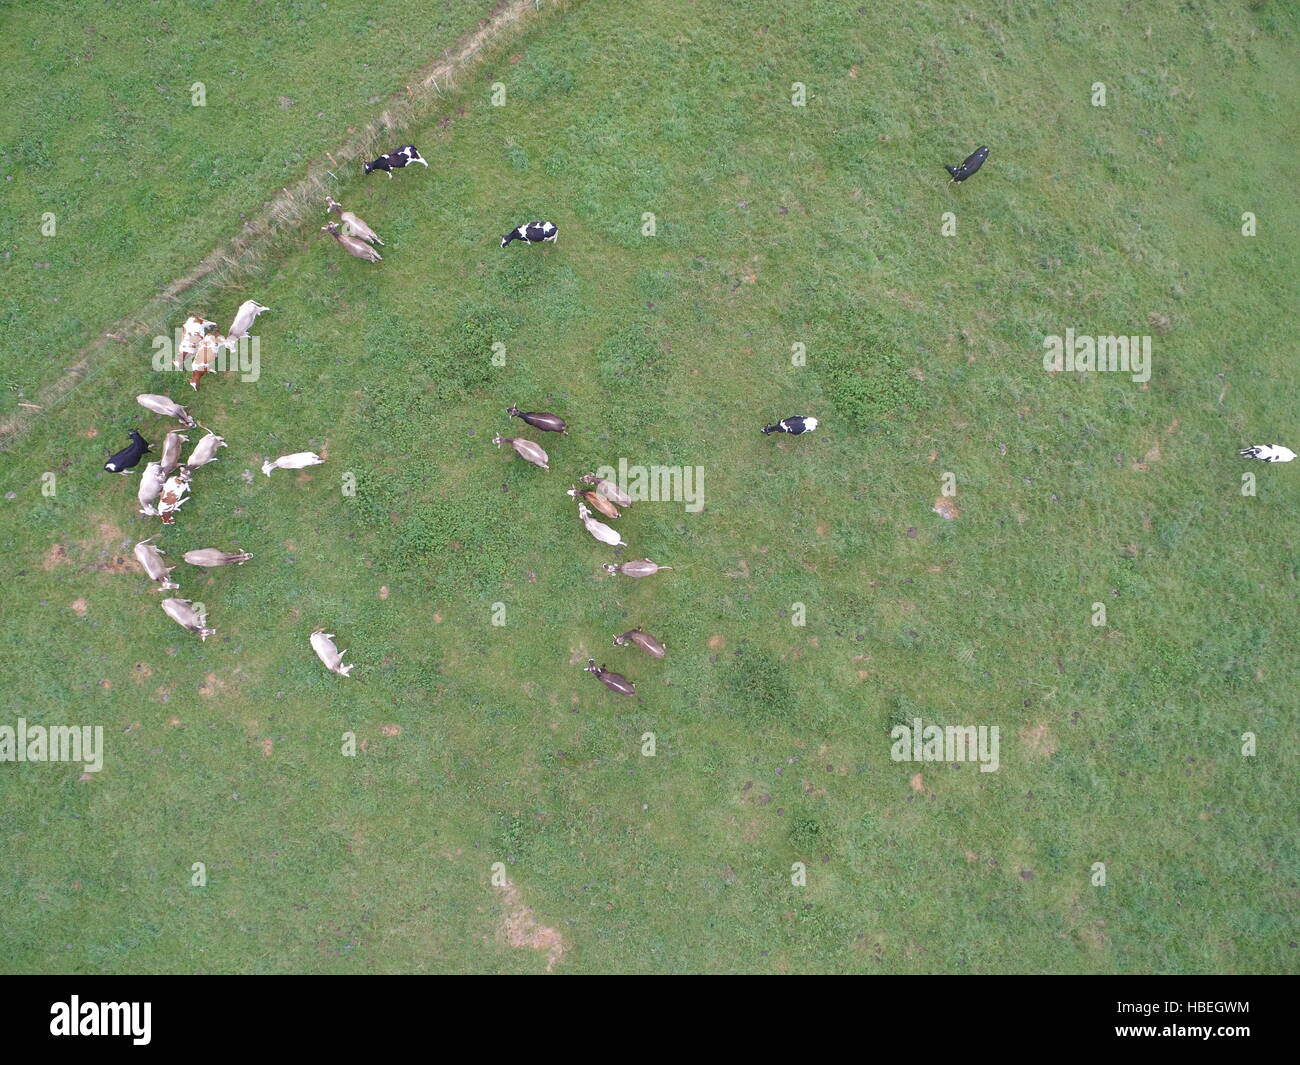cattle: (307, 217, 389, 267), (293, 624, 360, 685), (480, 210, 571, 253), (929, 140, 1000, 194), (572, 647, 644, 701), (313, 196, 395, 242), (610, 612, 679, 668), (355, 137, 435, 184), (488, 424, 558, 474), (250, 444, 329, 487), (143, 595, 213, 643), (119, 536, 181, 585), (181, 534, 255, 575), (564, 504, 629, 550), (91, 424, 155, 470), (133, 381, 194, 429), (577, 463, 641, 507), (222, 294, 269, 353), (565, 477, 631, 518), (153, 469, 197, 530), (503, 397, 565, 439), (188, 333, 227, 394), (1238, 434, 1300, 472), (168, 304, 207, 363), (595, 552, 675, 580), (188, 428, 227, 477), (152, 426, 189, 472), (132, 466, 163, 520), (761, 412, 822, 439)
